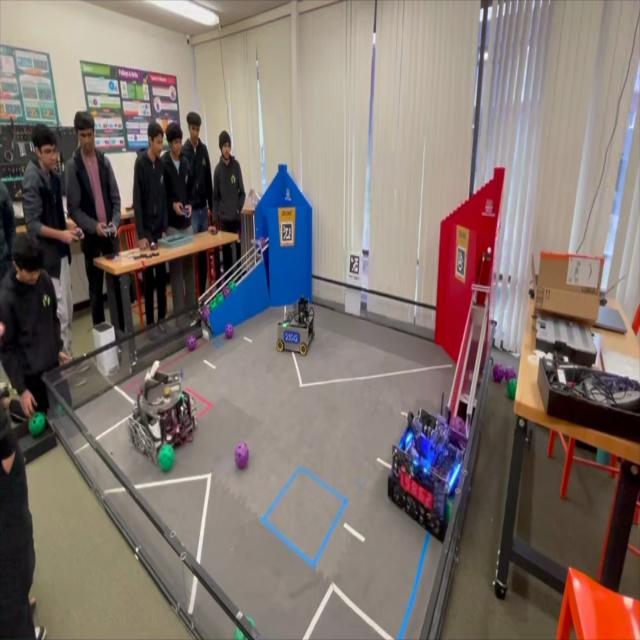artifact_green: (158, 444, 174, 472), (29, 413, 46, 437), (445, 496, 454, 524), (596, 449, 610, 465), (187, 335, 197, 351), (508, 379, 516, 399), (201, 305, 210, 322), (234, 628, 246, 639), (56, 404, 64, 417), (215, 293, 223, 305), (209, 299, 217, 311), (229, 281, 237, 292), (208, 299, 215, 310), (259, 237, 266, 248), (208, 304, 214, 315)
artifact_purple: (234, 442, 250, 470), (451, 416, 465, 433), (493, 363, 504, 383), (505, 367, 516, 382), (187, 335, 197, 351), (202, 305, 210, 321), (225, 324, 233, 339), (222, 287, 230, 298), (260, 237, 266, 247)
